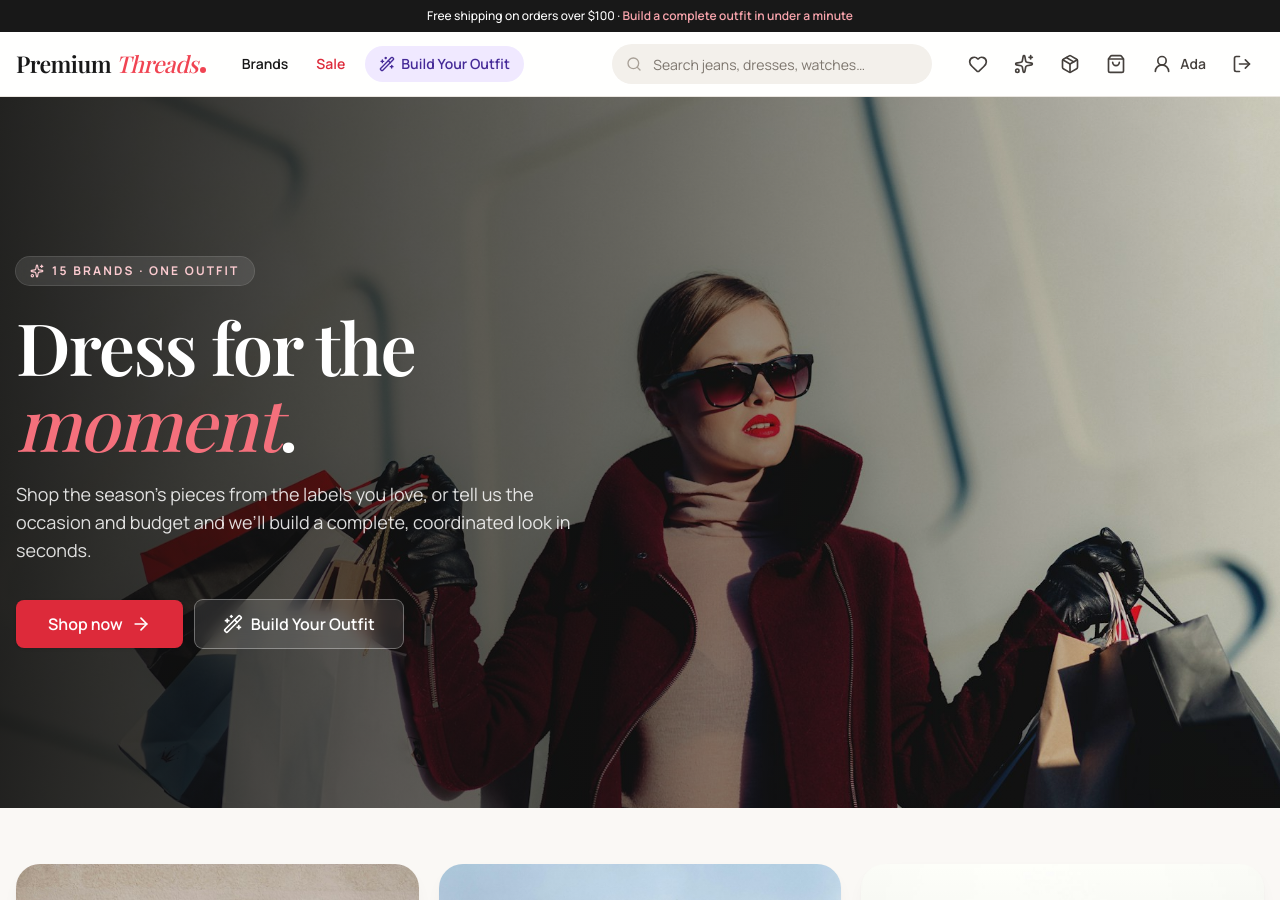
Test: authentication flows › signs out from the header
Click the button named "sign out": (1242,64) [1220,46,1264,82]
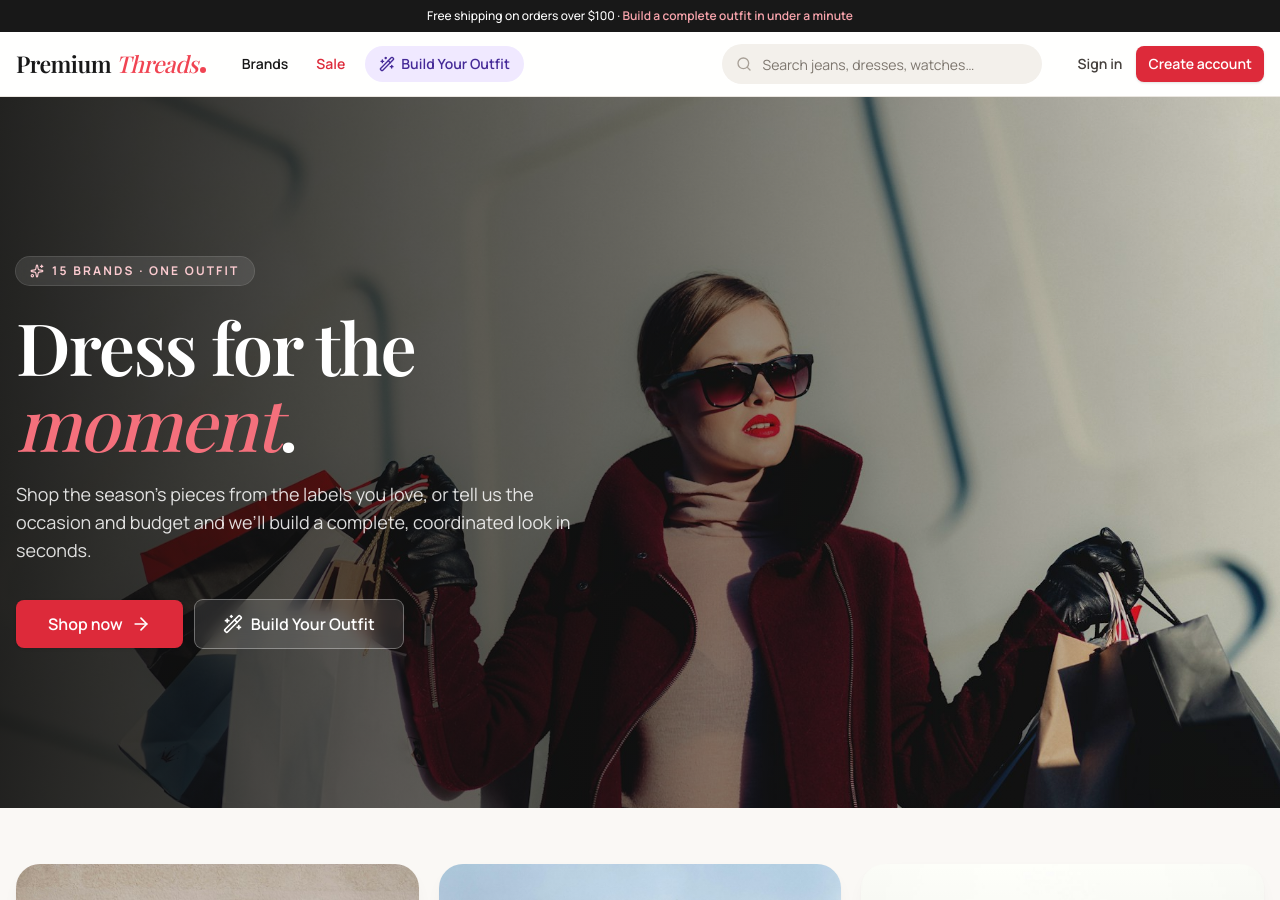
Expected: the link "Create account" is shown, [1136,46,1264,82]
